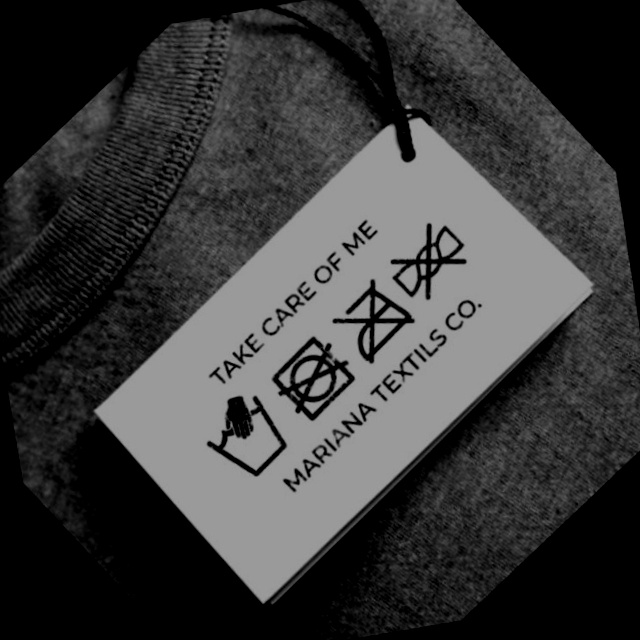DN_iron: (330, 275, 416, 366)
DN_tumble_dry: (264, 331, 356, 422)
DN_wring: (383, 216, 473, 302)
hand_wash: (198, 386, 293, 490)
